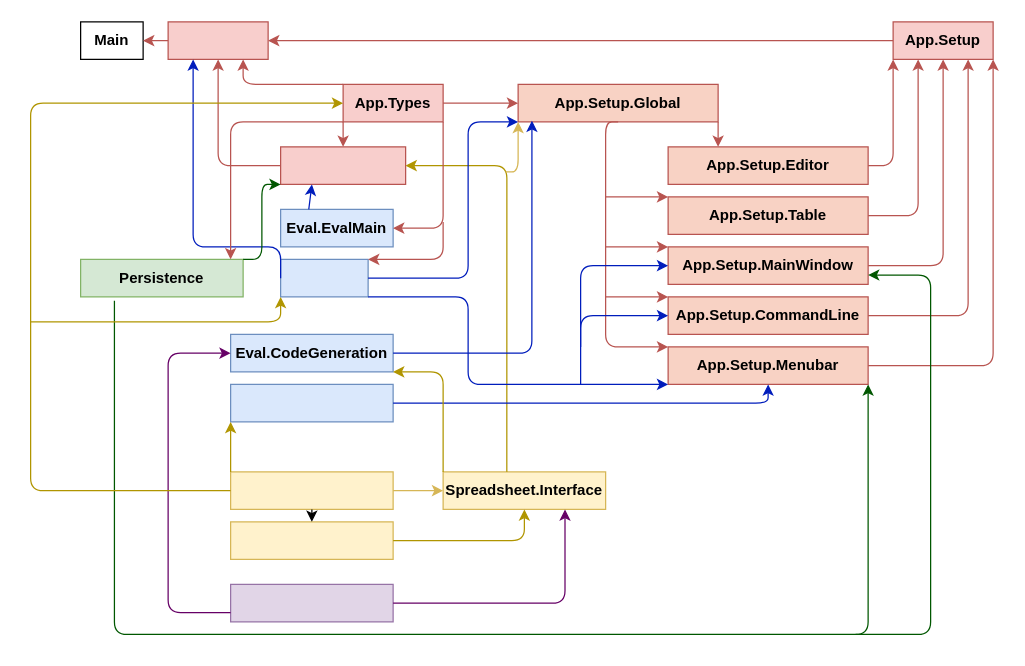
Some shapes in this 1025 by 666 pixel diagram are drawn without their labels. Here are the shapes that lost their labels. From the top down, the centre of each, then its label:
(217,40): App.RunApp
(342,165): App.CreateEnv
(323,277): Eval.Ghci
(311,402): Eval.CommandLine
(311,490): Spreadsheet.Types
(311,540): Spreadsheet.Parser
(311,602): GraphFunctions
